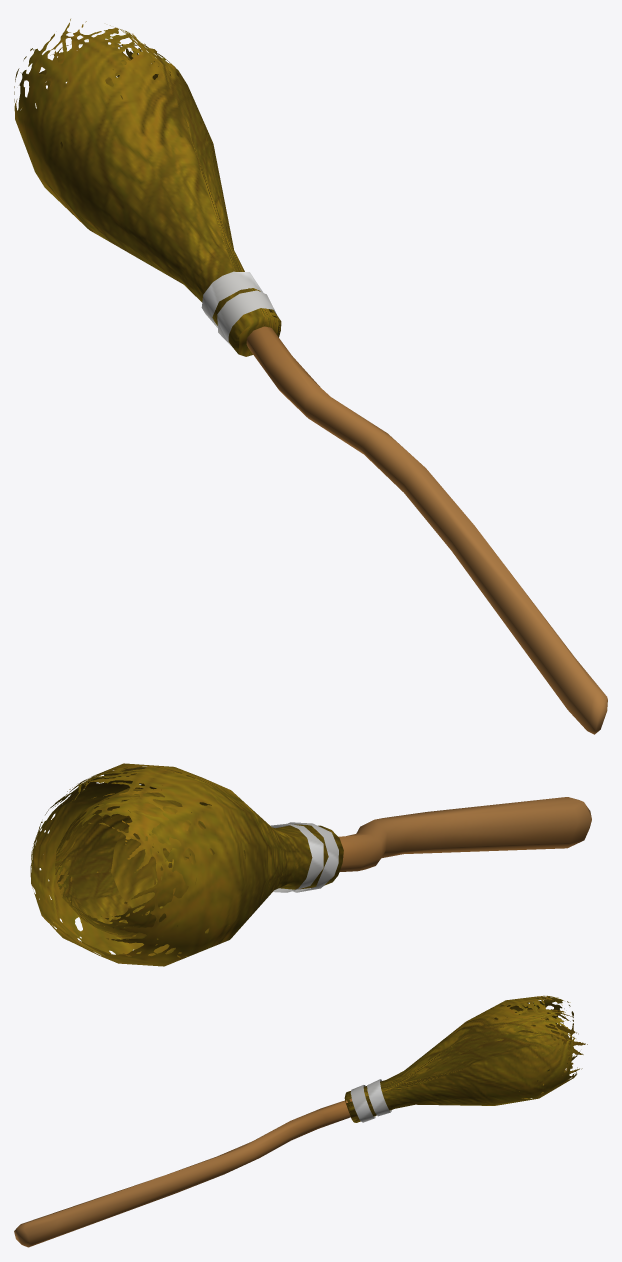
Rendered from broom-left.fbx.
The picture shows the model from 3 angles, top to bottom: view 1: azimuth 30°, elevation 25°; view 2: azimuth 150°, elevation 25°; view 3: azimuth 270°, elevation 25°; orthographic projection. The views are drawn at different scales.
Parts seen in each view (by area): view 1: Cube; view 2: Cube; view 3: Cube.
Boxes of the visible parts, box(x1,y1,x2,y2) form: Cube: box(14, 19, 607, 734); Cube: box(30, 763, 591, 966); Cube: box(14, 995, 587, 1247).
Bounding box in the file's own units: 0.2917 × 0.729 × 1.72.
